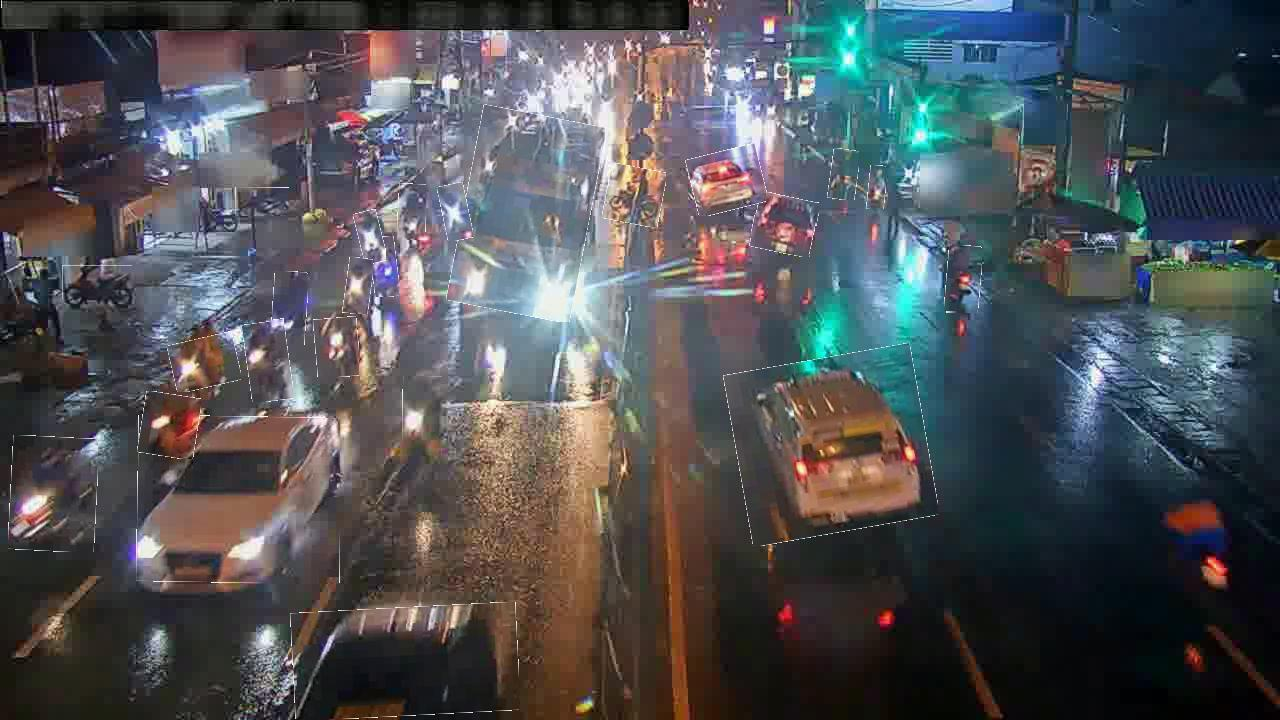8: (455, 109, 598, 318)
container: (730, 350, 933, 540), (137, 416, 341, 584), (292, 605, 519, 719), (688, 147, 765, 214), (752, 194, 818, 256)
motorbike: (10, 436, 98, 552), (140, 393, 200, 459), (244, 321, 292, 402), (170, 335, 240, 390), (605, 166, 665, 226), (403, 376, 443, 456), (314, 317, 359, 378), (272, 272, 308, 348), (62, 265, 133, 300), (946, 246, 982, 314), (440, 183, 472, 241), (370, 236, 399, 298), (344, 258, 373, 314), (398, 184, 426, 241), (235, 187, 290, 216), (356, 210, 385, 264), (829, 149, 859, 201), (867, 166, 886, 210)
